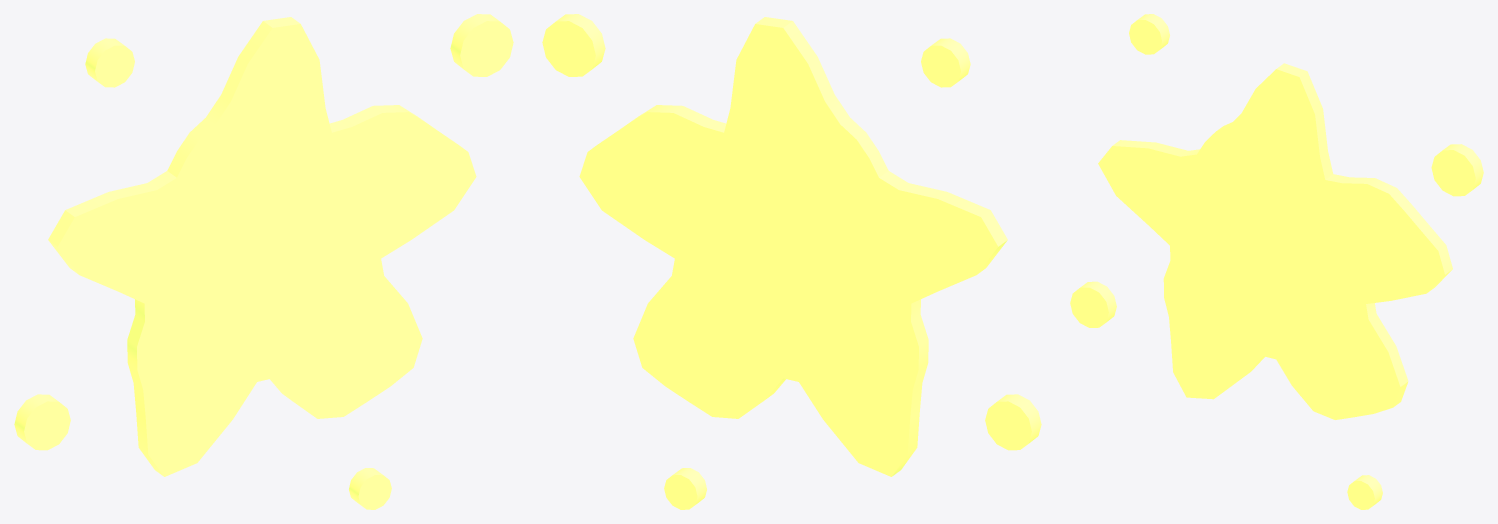
The model's file is Splat.fbx.
The picture shows the model from 3 angles, left to right: view 1: azimuth 30°, elevation 25°; view 2: azimuth 150°, elevation 25°; view 3: azimuth 330°, elevation 25°; orthographic projection. The views are drawn at different scales.
Parts seen in each view (by area): view 1: Splat; view 2: Splat; view 3: Splat.
Boxes of the visible parts, bbox=[...] form: Splat: bbox=[14, 14, 513, 509]; Splat: bbox=[542, 14, 1041, 509]; Splat: bbox=[1070, 14, 1483, 509].
Bounding box in the file's own units: 2.92 × 3.01 × 0.1.
